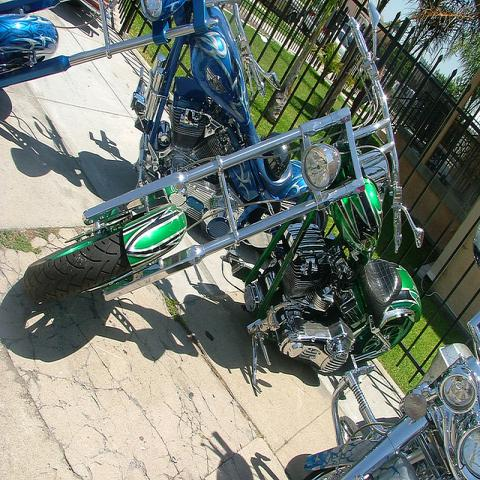motorcycle: (26, 6, 429, 395), (1, 2, 263, 188), (305, 313, 479, 473)
